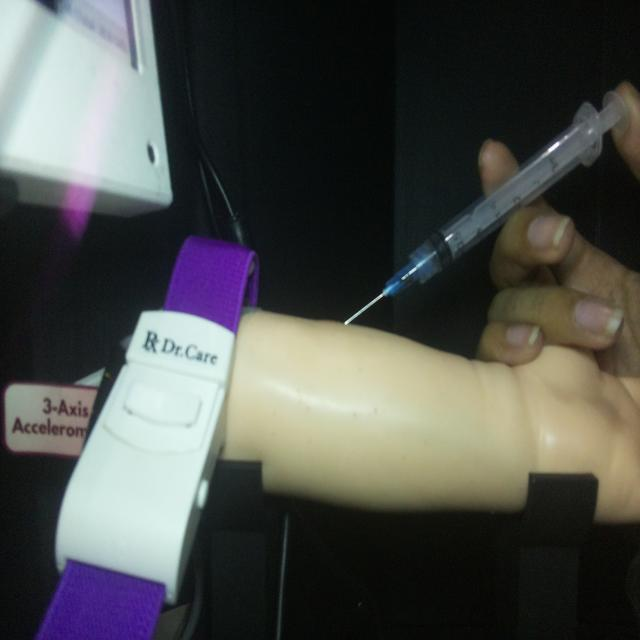29 degrees: (342, 83, 630, 328)
